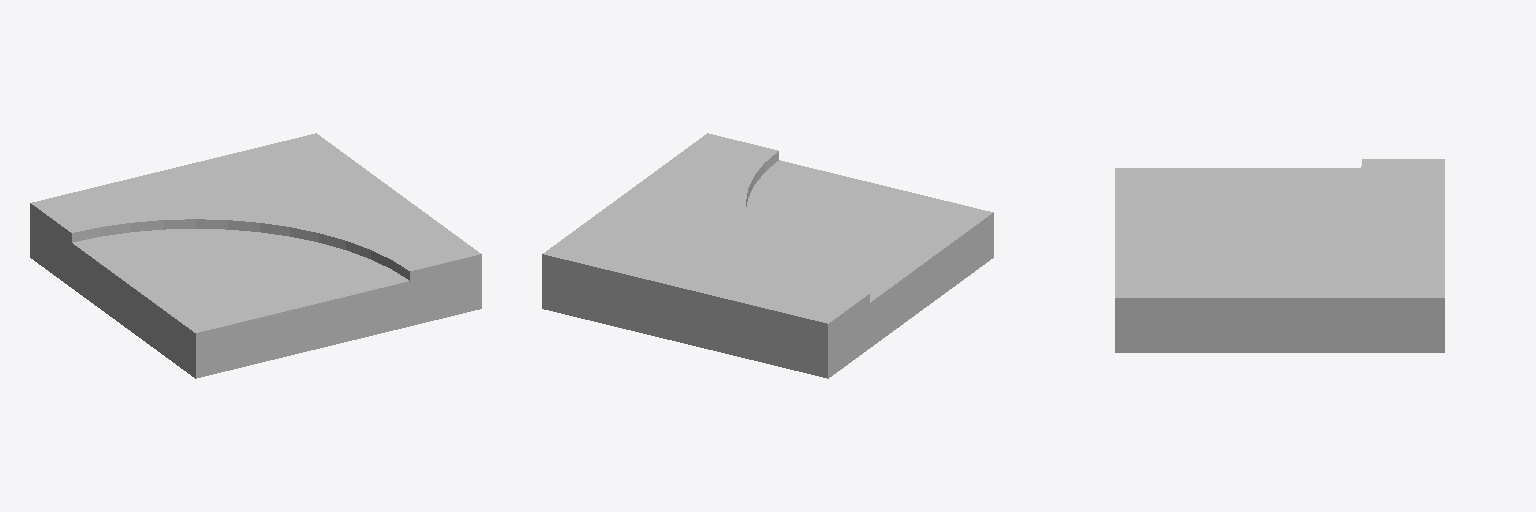
Rendered from tile115.obj.
3 renders of one model, left to right at view 1: azimuth 30°, elevation 25°; view 2: azimuth 150°, elevation 25°; view 3: azimuth 270°, elevation 25°, orthographic.
Visible parts, largest first — view 1: tile115; view 2: tile115; view 3: tile115.
Part boxes in pixels (x1,y1,x2,y2): tile115: (30,133,481,378); tile115: (542,133,993,378); tile115: (1115,159,1444,352).
Bounding box in the file's own units: 1 × 0.1833 × 1.